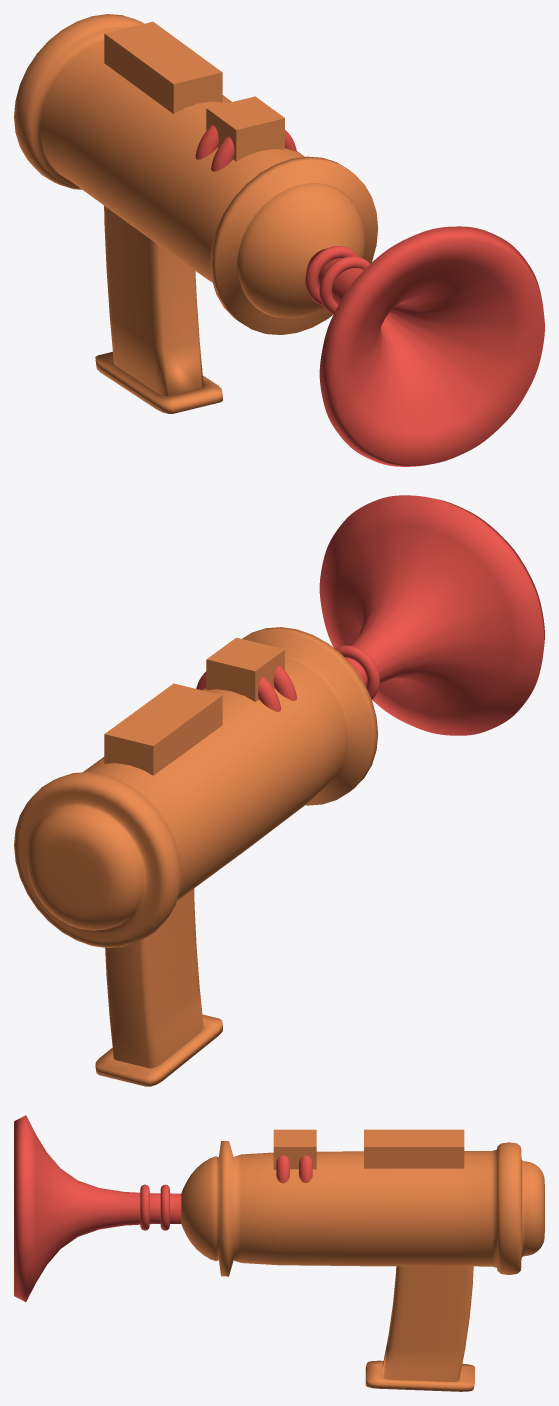
The model's file is POWERUP_ARMA.fbx.
3 views of the same model, one above another, from view 1: azimuth 30°, elevation 25°; view 2: azimuth 150°, elevation 25°; view 3: azimuth 270°, elevation 25° (orthographic). The views are drawn at different scales.
Visible parts, largest first — view 1: Torus.001; view 2: Torus.001; view 3: Torus.001.
Boxes of the visible parts, bbox=[...] form: Torus.001: bbox=[14, 14, 544, 466]; Torus.001: bbox=[14, 495, 544, 1086]; Torus.001: bbox=[14, 1115, 544, 1391].
Size of the model in its own units: 316 by 480 by 897.
